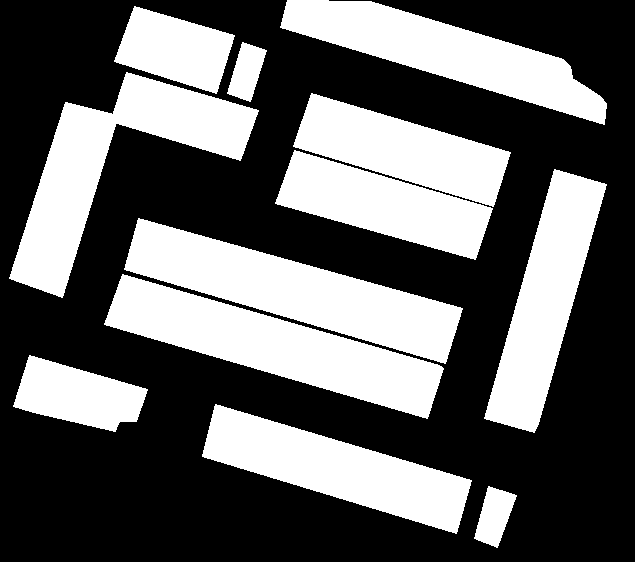parkingspot: (124, 218, 462, 363), (104, 274, 443, 418), (280, 0, 606, 124), (202, 404, 471, 533), (484, 169, 606, 432), (293, 93, 510, 206), (275, 150, 492, 259), (9, 102, 118, 297), (110, 72, 258, 160), (114, 6, 234, 93), (13, 355, 147, 431), (474, 486, 516, 547), (227, 42, 266, 101)
